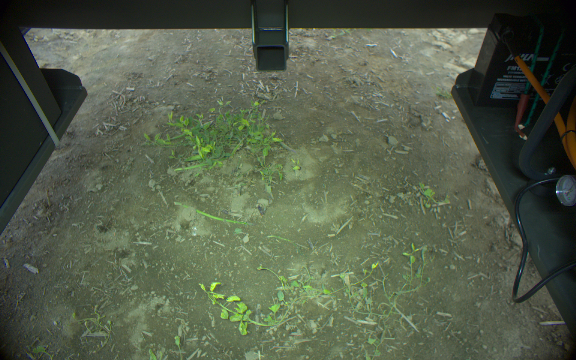aspa: (173, 201, 249, 226)
